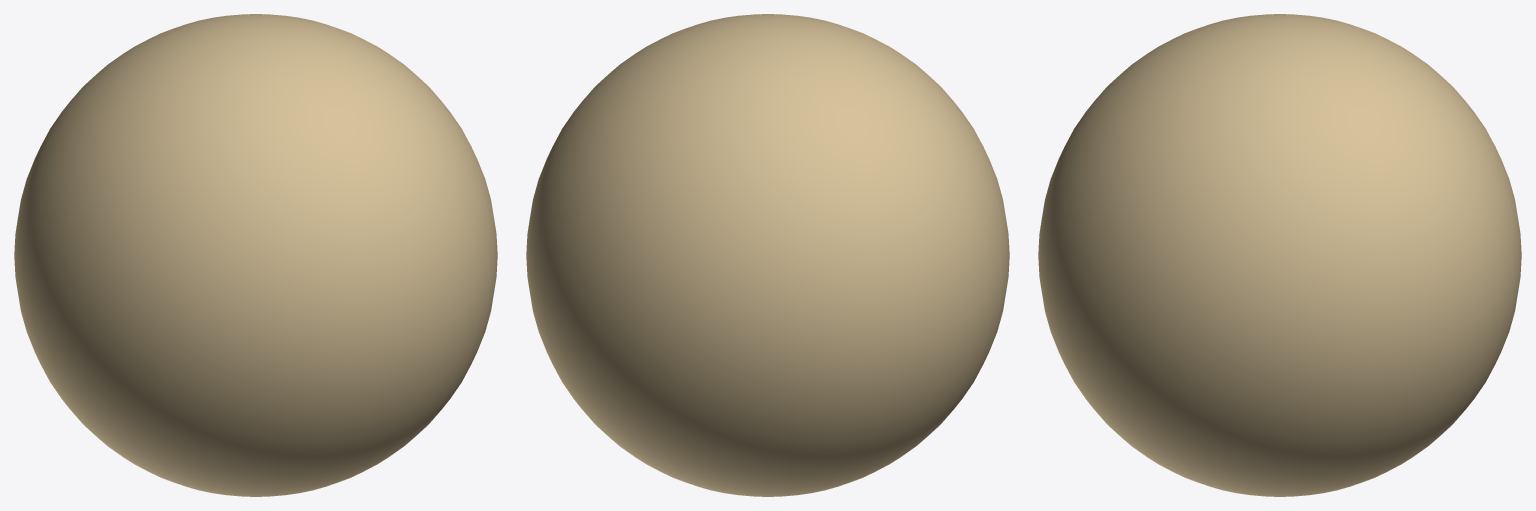
File: planet_2.obj
3 renders of one model, left to right at view 1: azimuth 30°, elevation 25°; view 2: azimuth 150°, elevation 25°; view 3: azimuth 270°, elevation 25°, orthographic.
Parts seen in each view (by area): view 1: planet_2; view 2: planet_2; view 3: planet_2.
Part boxes in pixels (x1,y1,x2,y2): planet_2: [14, 14, 497, 496]; planet_2: [526, 14, 1009, 496]; planet_2: [1038, 14, 1521, 496].
Bounding box in the file's own units: 2 × 2 × 2.
